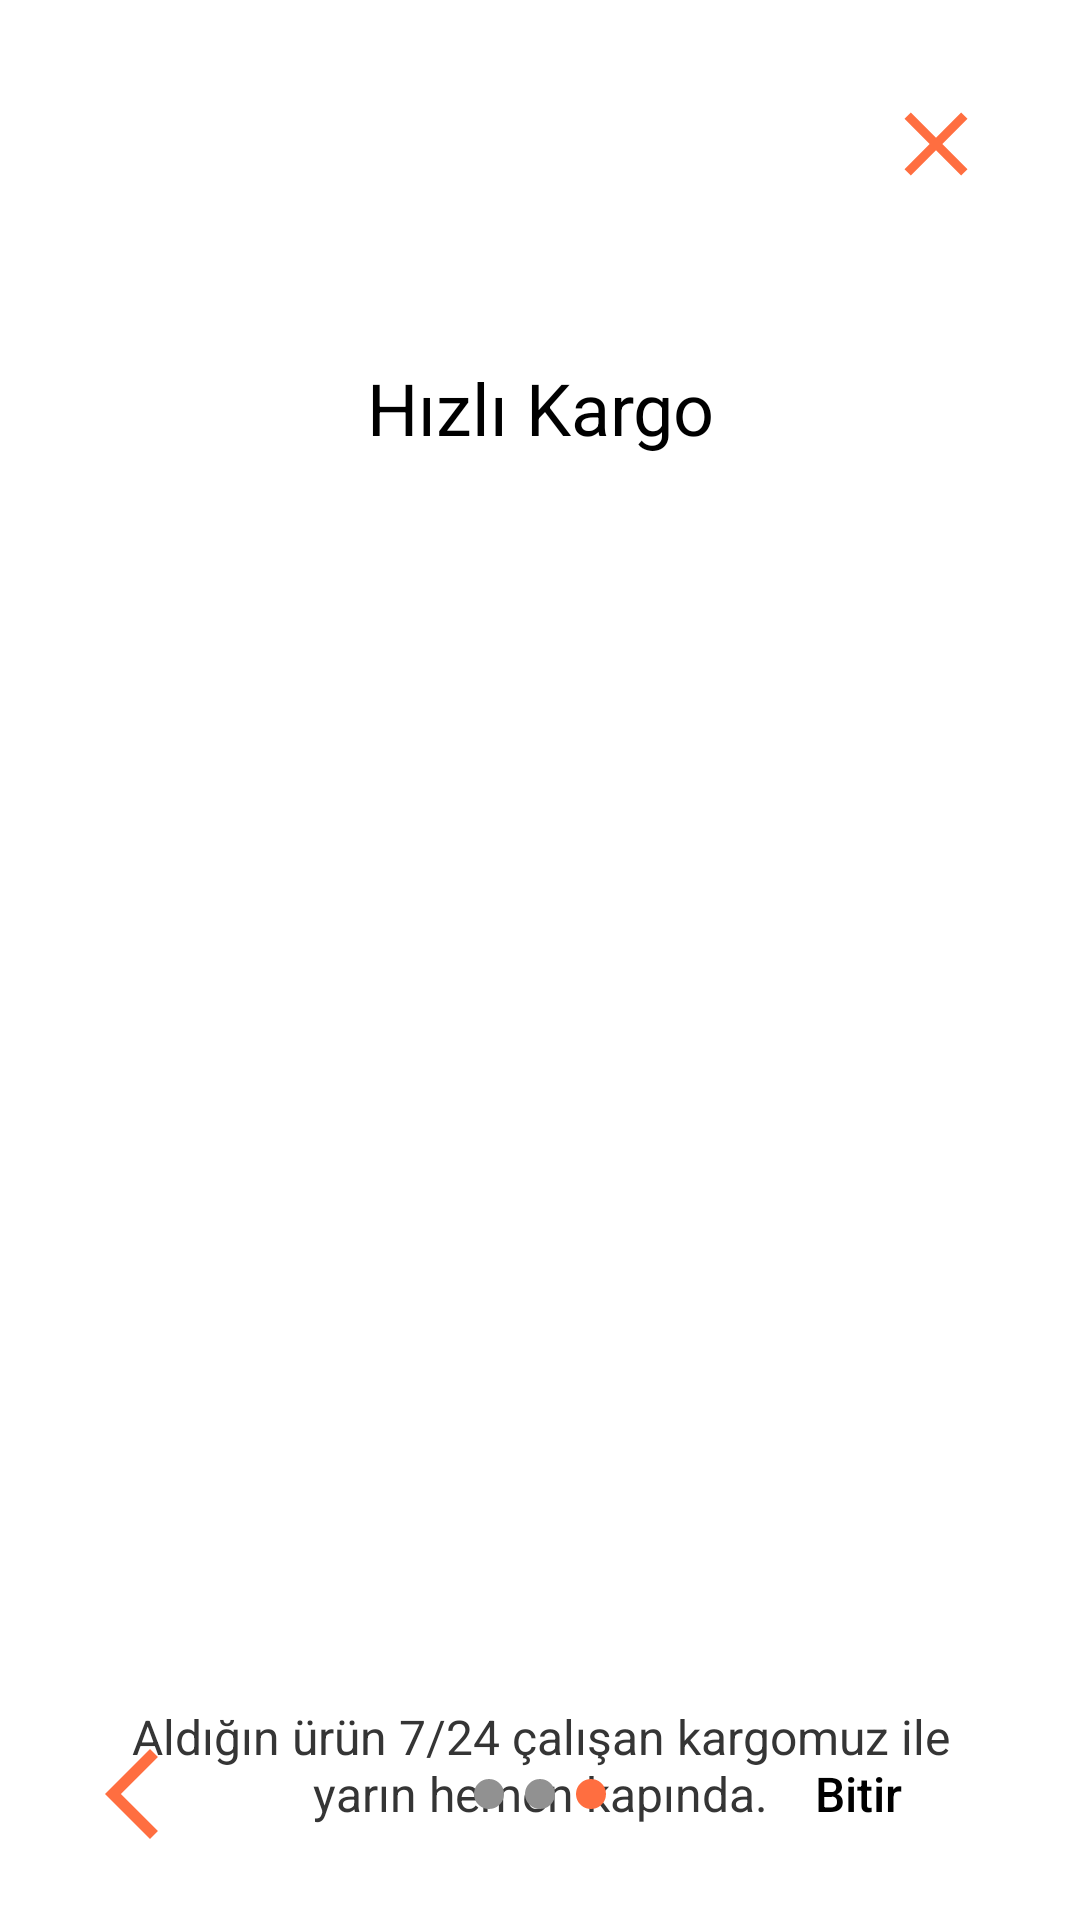

Icon click points for this 1080w x 1920h phone screenshot, format (x=x, y=y):
arrow back: (x=131, y=1794)
close: (x=936, y=144)
onboarding dot: (x=592, y=1794), (x=489, y=1795), (x=541, y=1795)
